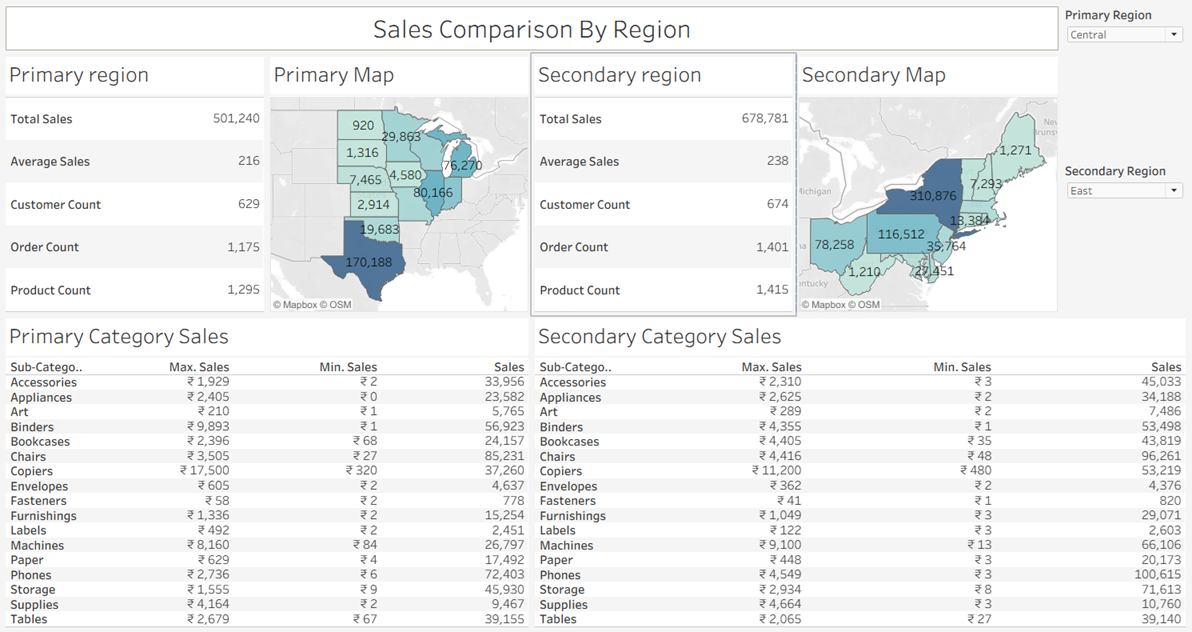

The dashboard page shown, as its layout file describes it:
{"tool":"tableau","page":{"name":"Dashboard 1","canvas":[1500,800],"ordinal":0},"visuals":[{"type":"title","box":[8,8,1324.8,63]},{"type":"parameter","param":"[Parameters].[Parameter 1]","box":[1333,8,159,195]},{"type":"worksheet","title":"Primary KPI","mark":"Automatic","box":[8,71,331.2,327.1]},{"type":"worksheet","title":"Primary Map","mark":"Multipolygon","box":[339.2,71,331.2,327.1]},{"type":"worksheet","title":"Secondary KPI","mark":"Automatic","box":[670.4,71,330,327.1]},{"type":"worksheet","title":"Secondary Map","mark":"Multipolygon","box":[1000.4,71,332.4,327.1]},{"type":"parameter","param":"[Parameters].[Primary Region (copy)_1198520452426559488]","box":[1333,203,159,195]},{"type":"worksheet","title":"Primary Category Sales","mark":"Automatic","rows":["Sub-Category"],"box":[8,398.1,662,393.9]},{"type":"worksheet","title":"Secondary Category Sales","mark":"Automatic","rows":["Sub-Category"],"box":[670,398.1,822,393.9]}]}

Visuals, with their boxes in screenshot pixels (x1, y1, x2, y2), scaled from the page's 1500x800 canvas onto the 1192x632 screenshot:
title: x1=6 y1=6 x2=1059 y2=56
parameter: x1=1059 y1=6 x2=1186 y2=160
"Primary KPI" worksheet: x1=6 y1=56 x2=270 y2=314
"Primary Map" worksheet (Multipolygon marks): x1=270 y1=56 x2=533 y2=314
"Secondary KPI" worksheet: x1=533 y1=56 x2=795 y2=314
"Secondary Map" worksheet (Multipolygon marks): x1=795 y1=56 x2=1059 y2=314
parameter: x1=1059 y1=160 x2=1186 y2=314
"Primary Category Sales" worksheet: x1=6 y1=314 x2=532 y2=626
"Secondary Category Sales" worksheet: x1=532 y1=314 x2=1186 y2=626
